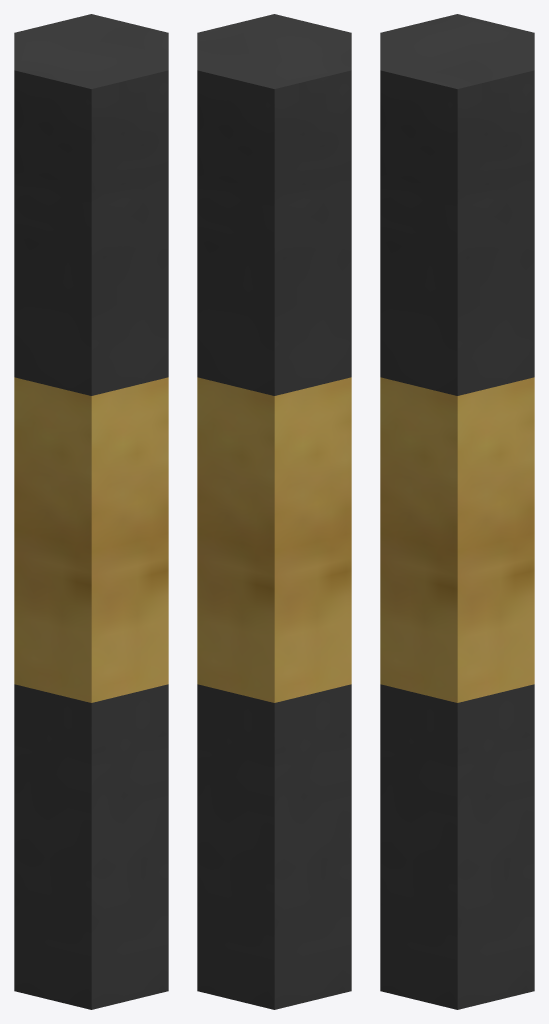
Rendered from SmallPillar.fbx.
3 views of the same model, side by side, from view 1: azimuth 30°, elevation 25°; view 2: azimuth 150°, elevation 25°; view 3: azimuth 270°, elevation 25° (orthographic).
Parts seen in each view (by area): view 1: SmallPillar; view 2: SmallPillar; view 3: SmallPillar.
Boxes of the visible parts, box(x1,y1,x2,y2) form: SmallPillar: box(14, 14, 168, 1009); SmallPillar: box(197, 14, 351, 1009); SmallPillar: box(380, 14, 534, 1009).
Size of the model in its own units: 17.36 by 20.04 by 114.
